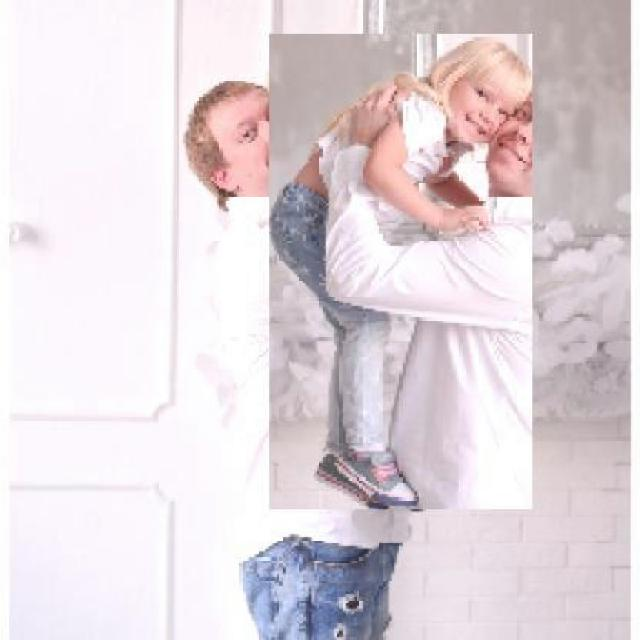child: (268, 34, 532, 512)
